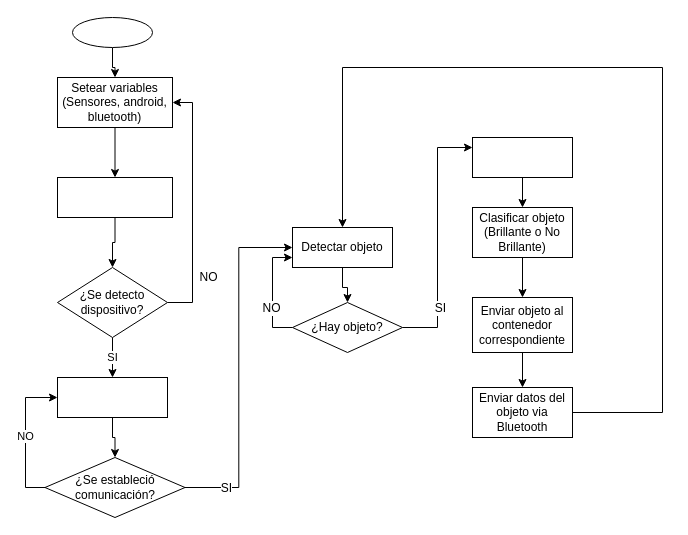
This 688x535 diagram has some shape labels left out. The shapes that lost their labels are listed below. From the top down, each one's centre as x and y in pixels, then its label:
(112,32): Inicio
(522,157): Analizar objeto
(114,197): Buscar dispositivo Bluetooth
(112,397): Establecer comunicación
